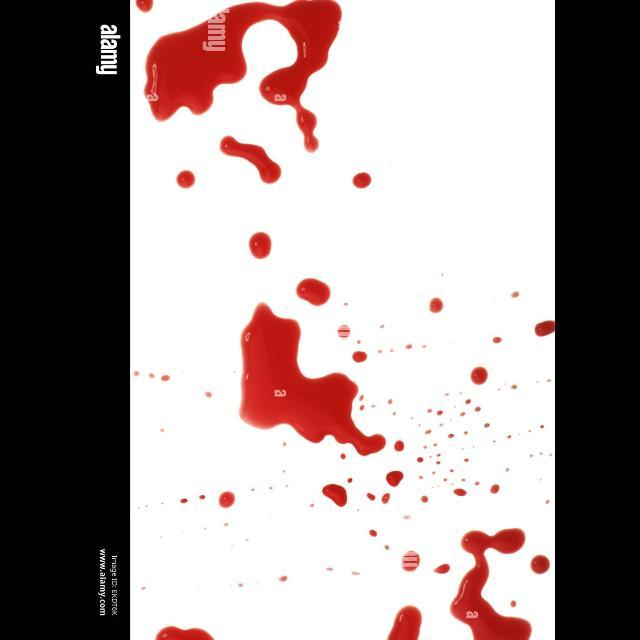blood: (143, 0, 341, 153), (238, 302, 385, 456), (449, 527, 531, 640), (218, 135, 281, 184), (387, 605, 421, 639), (295, 278, 330, 306), (247, 232, 271, 259), (321, 483, 346, 507), (529, 554, 549, 574), (175, 170, 195, 189), (533, 320, 554, 337), (469, 366, 487, 385), (351, 172, 370, 189), (385, 470, 403, 487), (217, 491, 234, 508), (134, 0, 152, 13), (428, 297, 442, 313), (351, 351, 367, 363), (432, 563, 449, 574), (393, 440, 403, 451)
